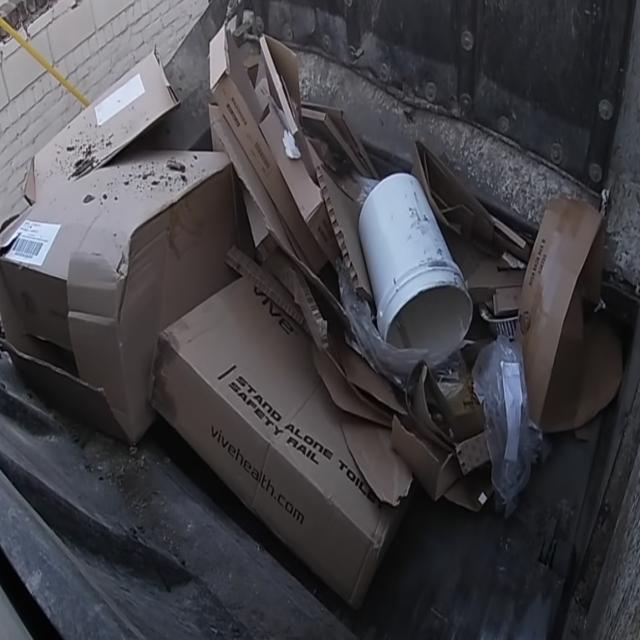cardboard: (2, 64, 264, 471), (151, 239, 393, 609), (193, 9, 356, 321), (482, 185, 634, 438)
plastic: (344, 165, 478, 379), (474, 324, 544, 516)
